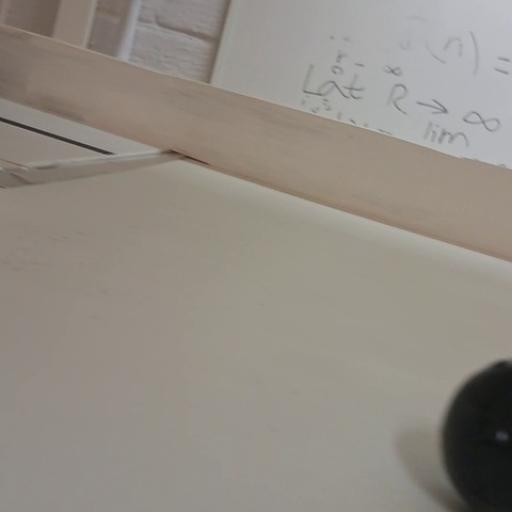dead: (440, 358, 512, 507)
